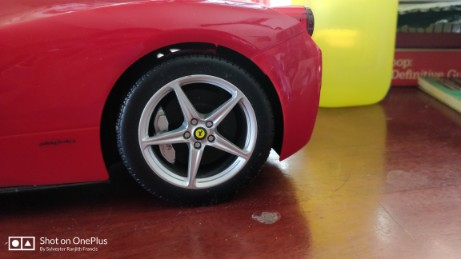aligned_wheel: (90, 38, 298, 213)
